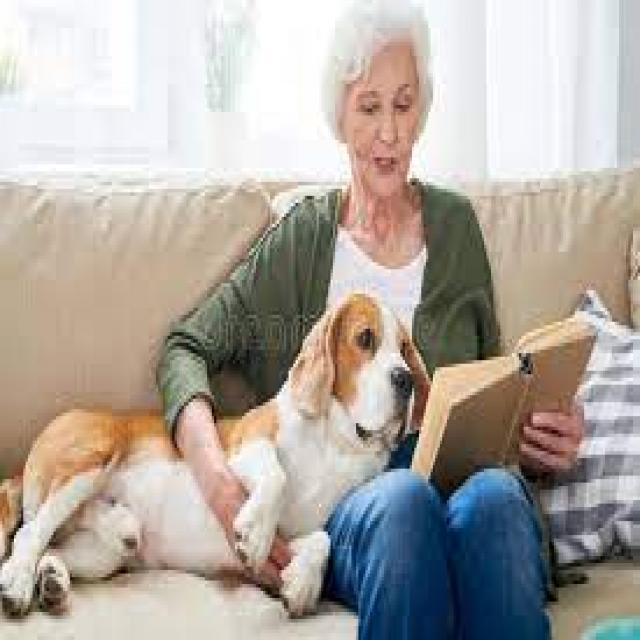Dog: (0, 284, 436, 622)
